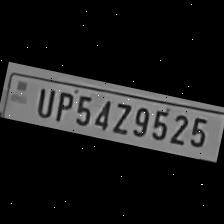2: (166, 109, 190, 147)
4: (89, 94, 114, 132)
5: (69, 90, 95, 128), (184, 112, 210, 150), (146, 105, 171, 143)
9: (127, 102, 152, 138)
P: (50, 86, 75, 124)
U: (29, 83, 56, 120)
Z: (106, 97, 132, 136)
